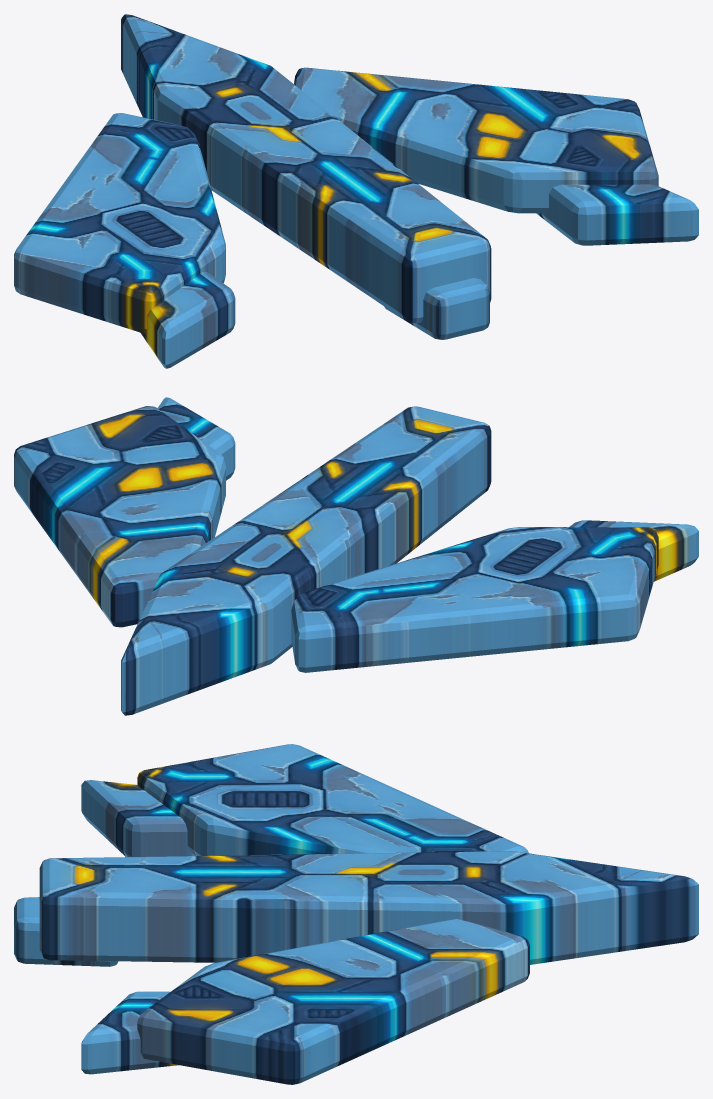
The model's file is drone.obj.
The picture shows the model from 3 angles, top to bottom: view 1: azimuth 30°, elevation 25°; view 2: azimuth 150°, elevation 25°; view 3: azimuth 270°, elevation 25°; orthographic projection.
Parts seen in each view (by area): view 1: DroneHull; view 2: DroneHull; view 3: DroneHull.
Boxes of the visible parts, bbox=[...] form: DroneHull: bbox=[14, 14, 698, 368]; DroneHull: bbox=[14, 397, 698, 715]; DroneHull: bbox=[14, 744, 698, 1084].
Bounding box in the file's own units: 5.59 × 0.68 × 5.36.
Materials: 1 (1 with a texture image).
